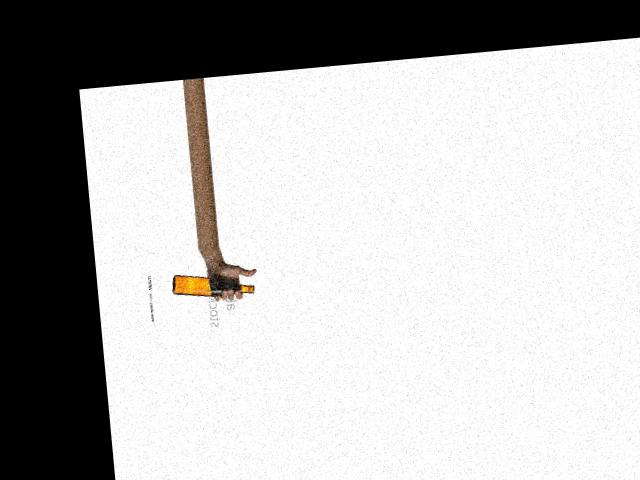beer: (171, 267, 254, 301)
